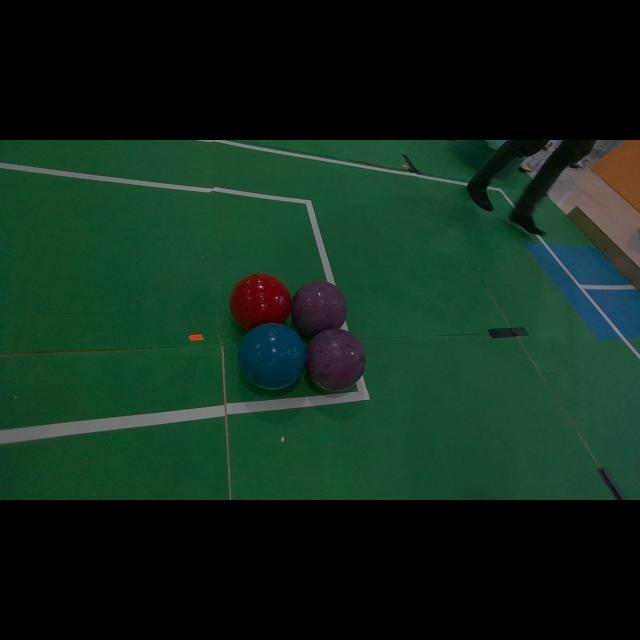B: (238, 322, 306, 390)
P: (306, 329, 366, 391), (292, 281, 348, 334)
R: (231, 275, 290, 331)
